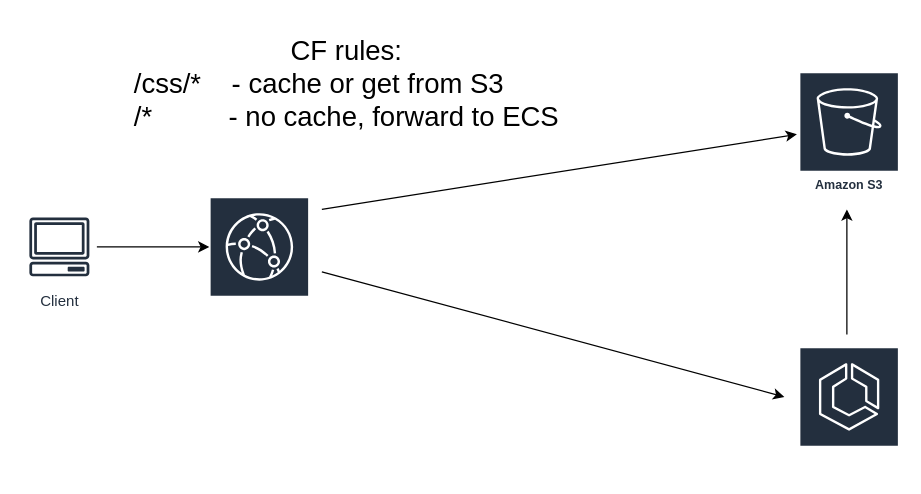
This 921x494 diagram has some shape labels left out. Each missing label, with the centre of its shape:
"Amazon Cloudfront" goes at pixel 258 265.
"Amazon ECS" goes at pixel 848 409.
